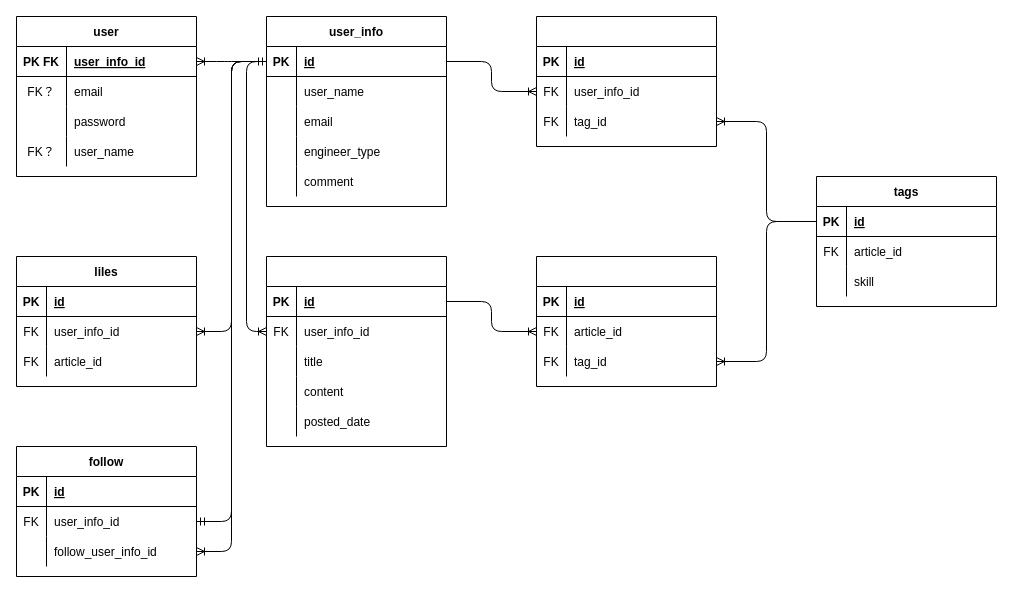
Some shapes in this 1013 by 593 pixel diagram are drawn without their labels. The box of each missing label's shape, as (x1, y1, x2, y2) in pixels:
article_tags: (536, 256, 716, 386)
articles: (266, 256, 446, 446)
user_info_tags: (536, 16, 716, 146)
